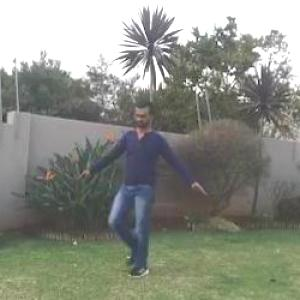land: (89, 110, 204, 257)
